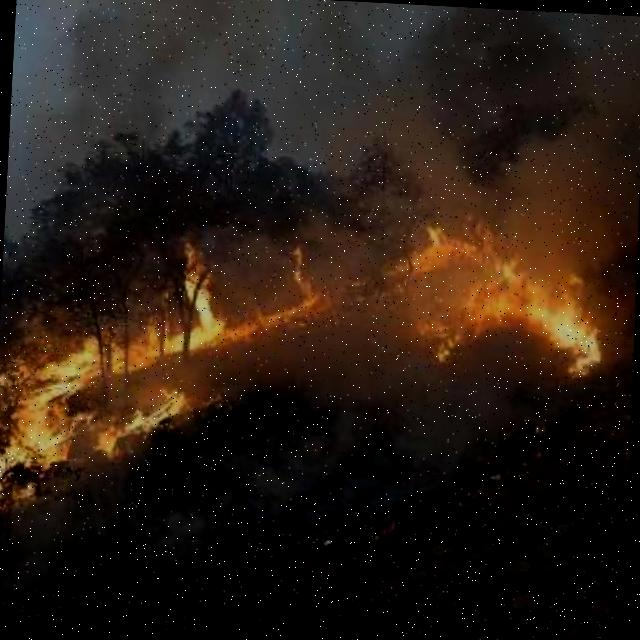fire: (0, 232, 336, 552), (404, 216, 620, 391)
